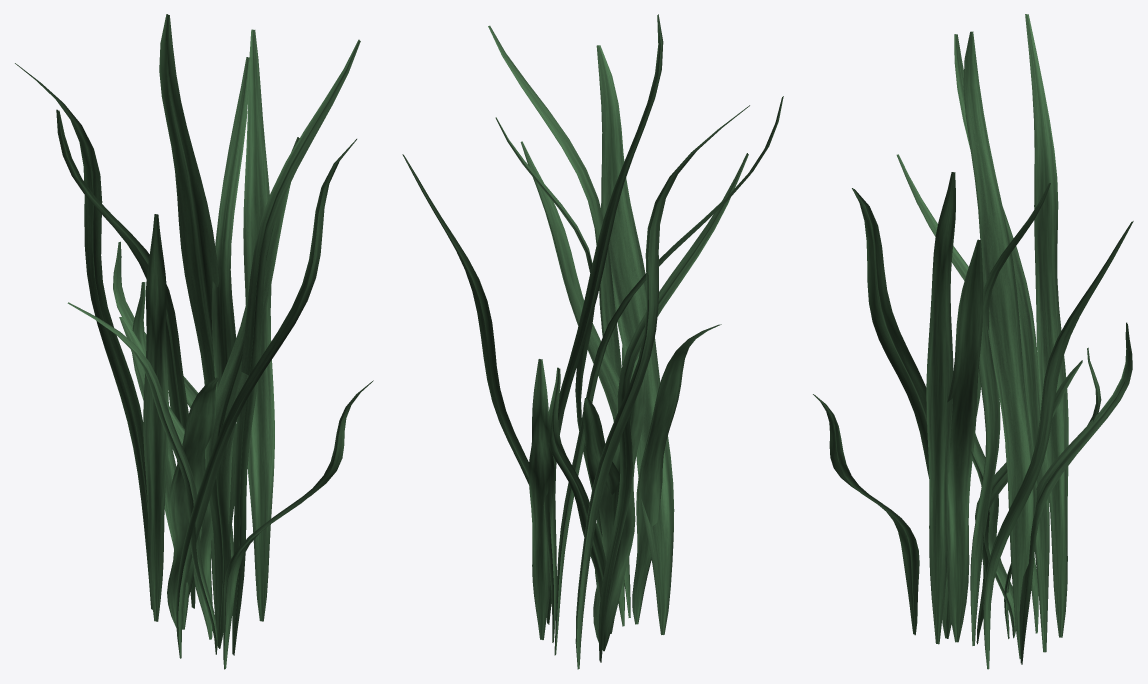
File: seaweed_eelgrass_b.glb
The picture shows the model from 3 angles, left to right: view 1: azimuth 30°, elevation 25°; view 2: azimuth 150°, elevation 25°; view 3: azimuth 270°, elevation 25°; orthographic projection. The views are drawn at different scales.
Visible parts, largest first — view 1: world; view 2: world; view 3: world.
Boxes of the visible parts, x1,y1,x2,y2 form: world: [15, 14, 373, 669]; world: [402, 14, 783, 669]; world: [813, 14, 1133, 669].
Bounding box in the file's own units: 0.535 × 1.07 × 0.5264.
1 material, 1 textured.
